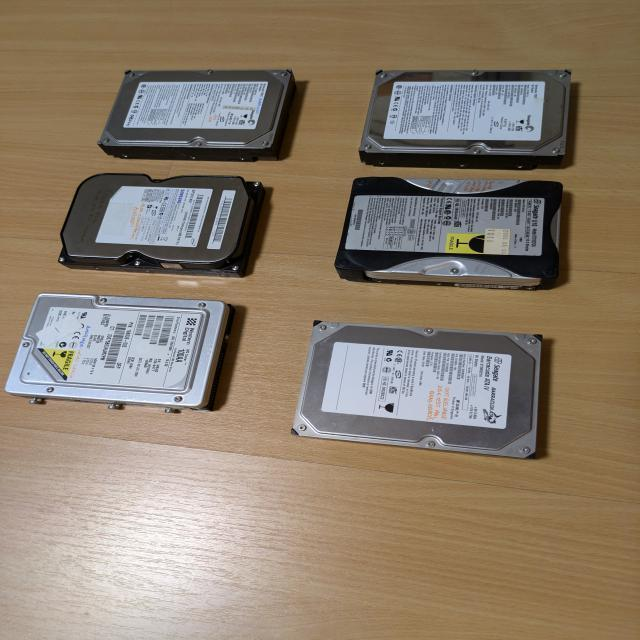DISK: (290, 320, 544, 460), (5, 292, 236, 412), (334, 176, 564, 291), (358, 68, 573, 172), (57, 172, 267, 278), (96, 68, 297, 162)
